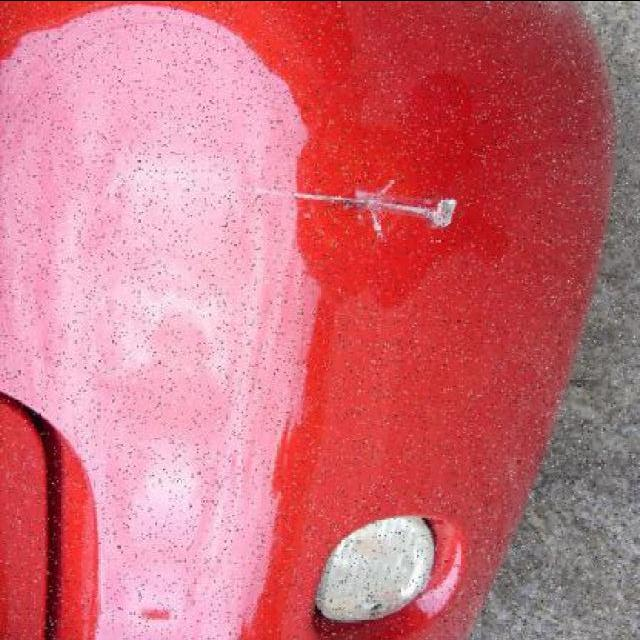rear-bumper-dent: (159, 2, 618, 640)
